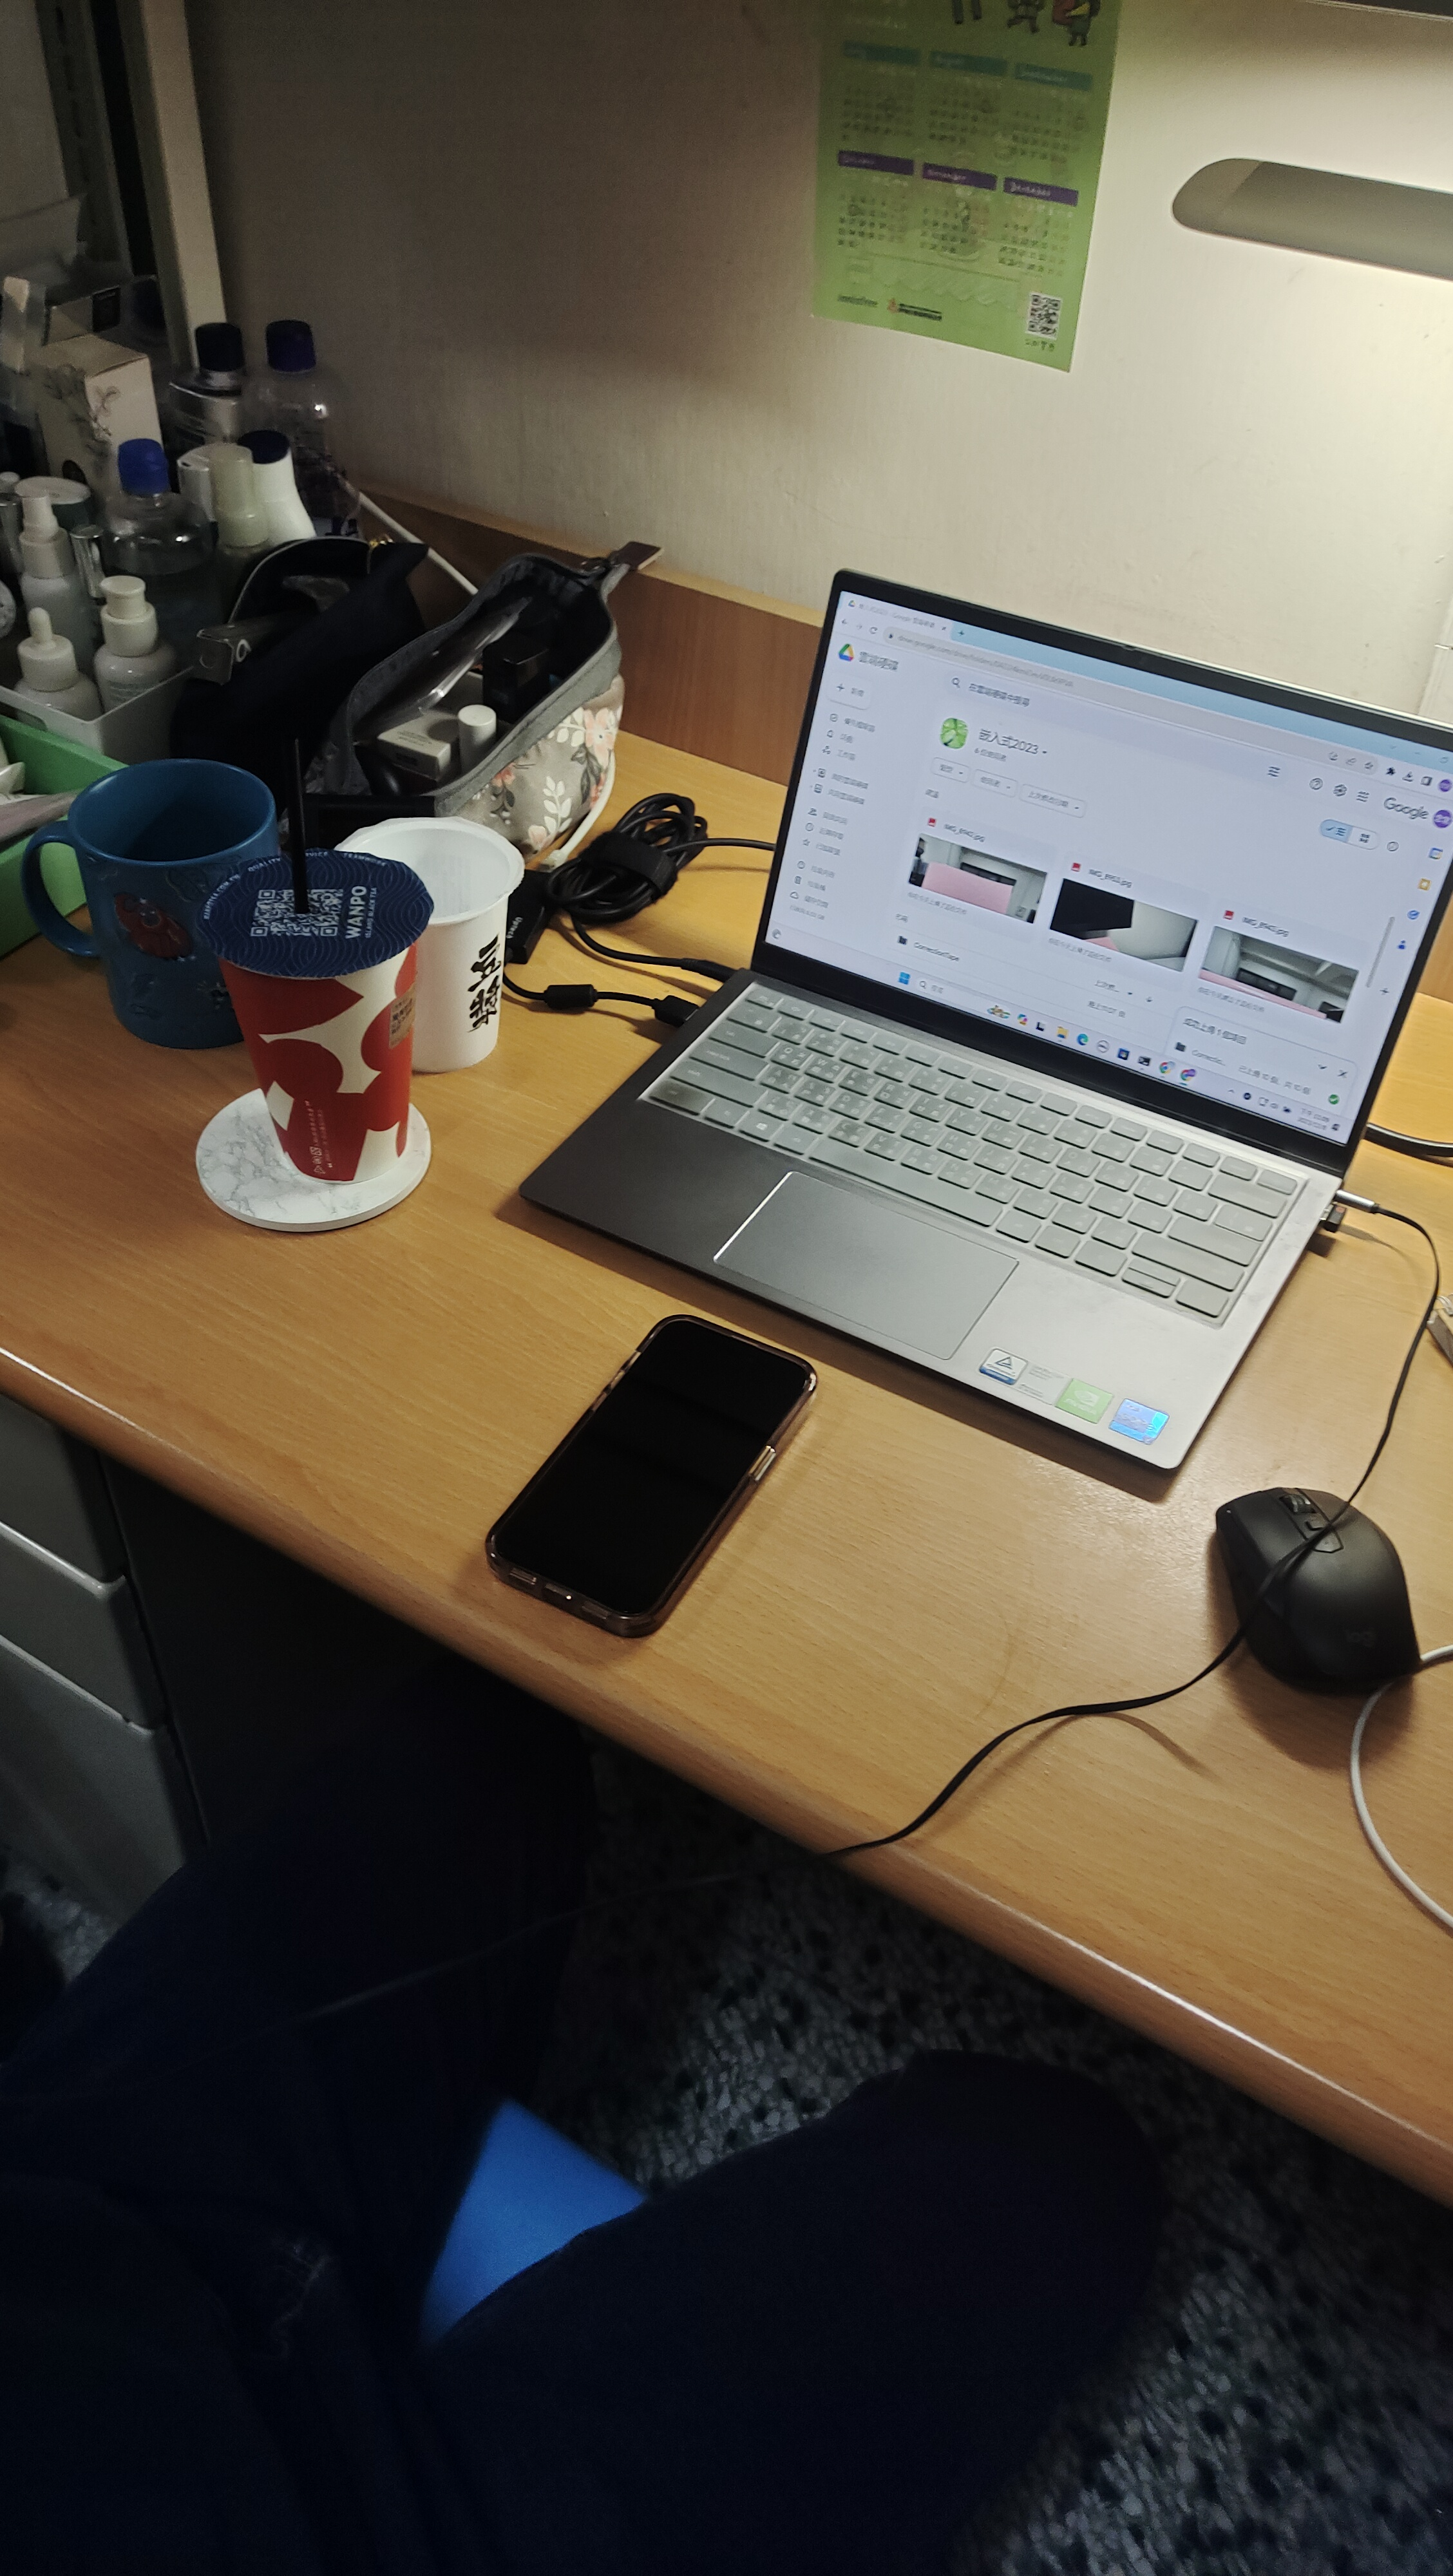iphone: (487, 1316, 814, 1640)
